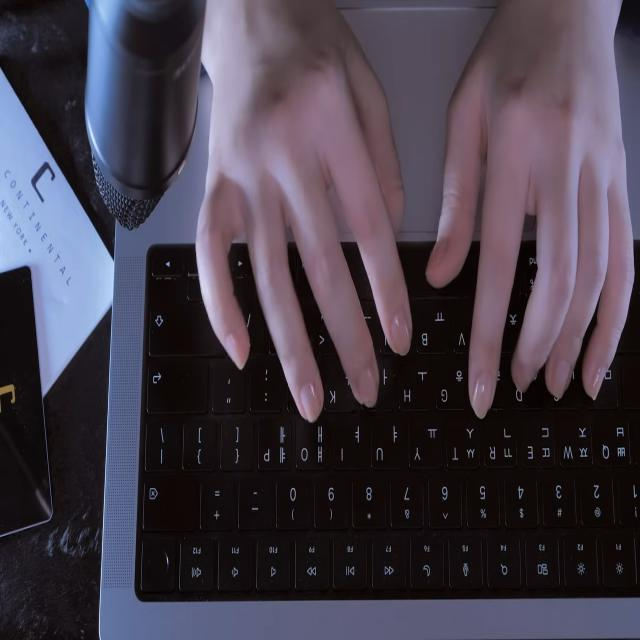keyboard-with-hands: (136, 241, 640, 598)
